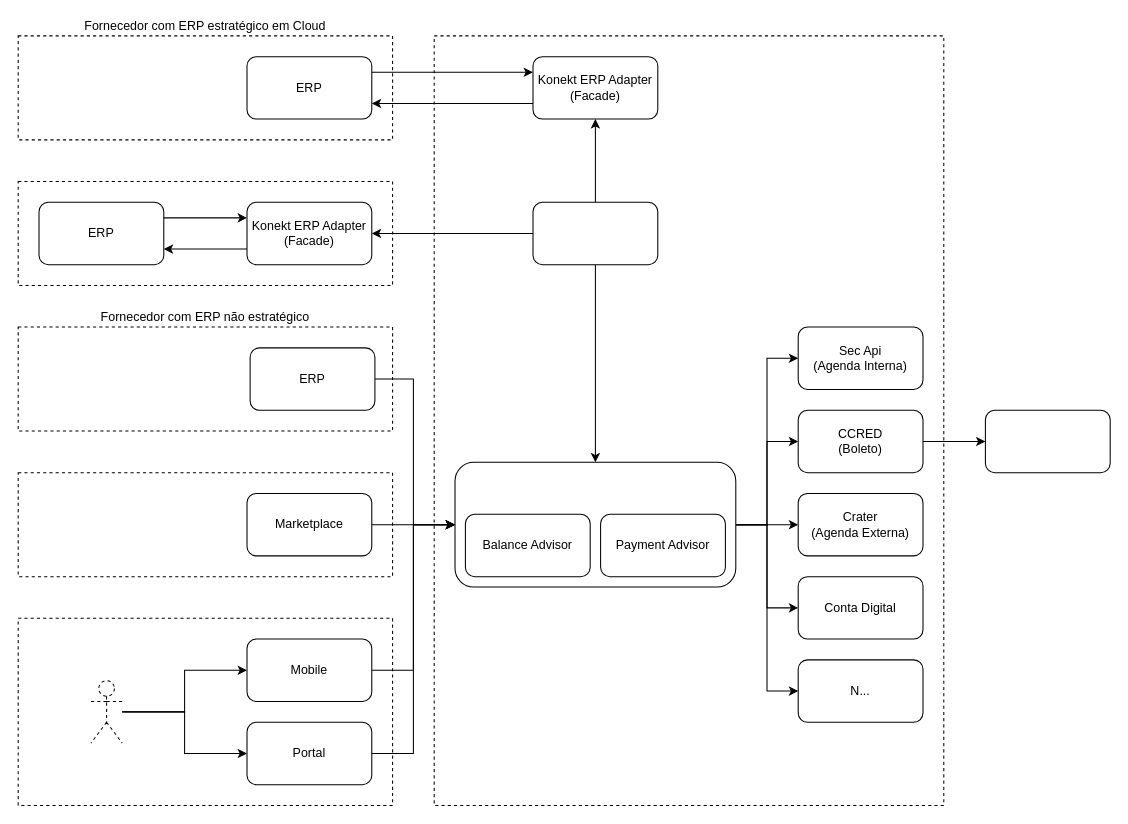
Image size: 1128x824. Some labels were removed from this diagram. Each missing label, with the box of its shape:
Alpe: (433, 35, 944, 805)
Anyware: (17, 617, 393, 805)
Fornecedor com ERP estratégico On Premisses: (17, 180, 393, 285)
Konekt Fondation (Service Bus): (454, 461, 736, 587)
Konekt Processor (Process Executor): (532, 201, 658, 265)
Partner: (17, 472, 393, 577)
QProf: (984, 409, 1110, 473)
Vendedor em campo: (90, 680, 122, 743)
